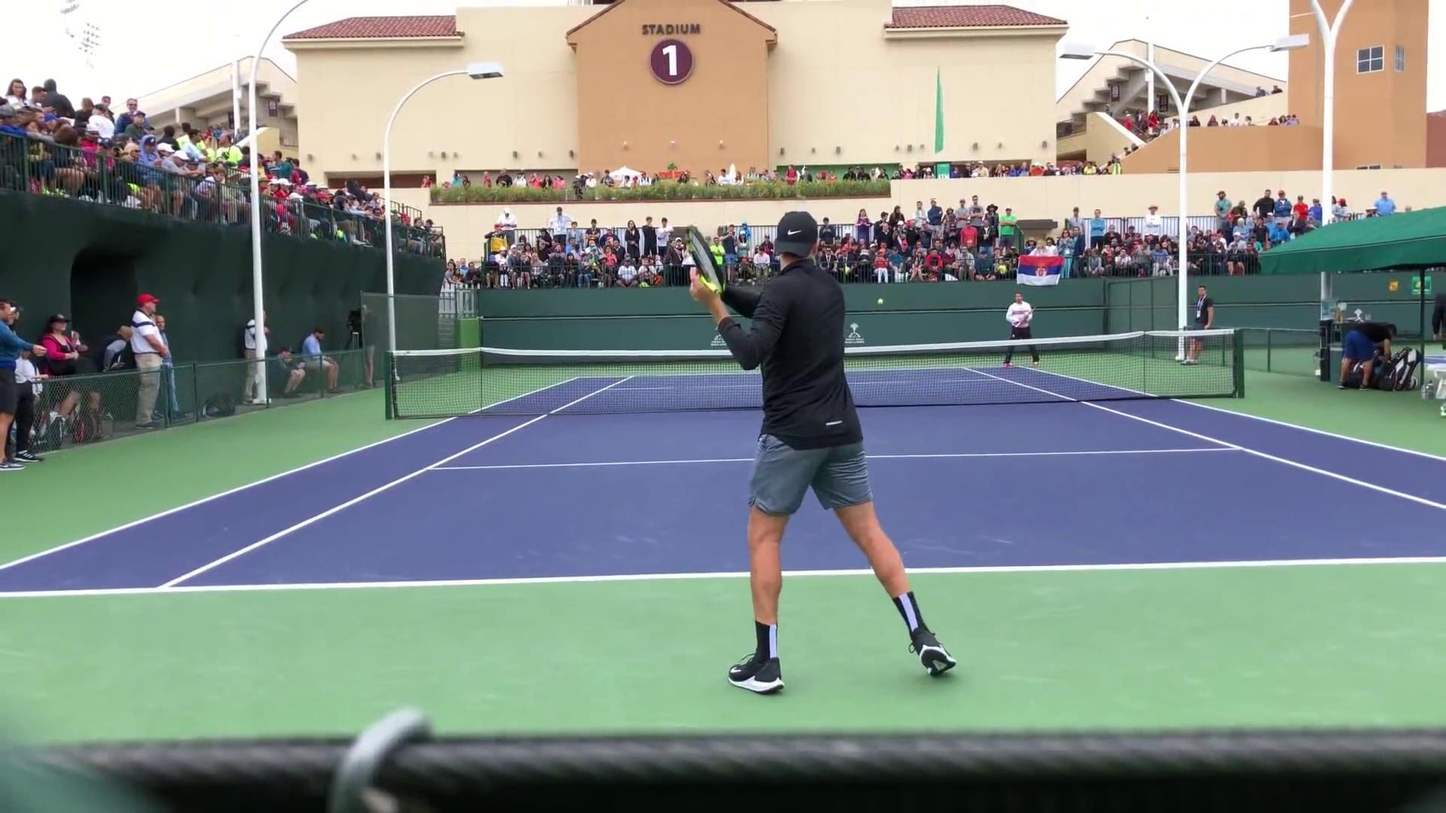ball: (875, 296, 885, 304)
